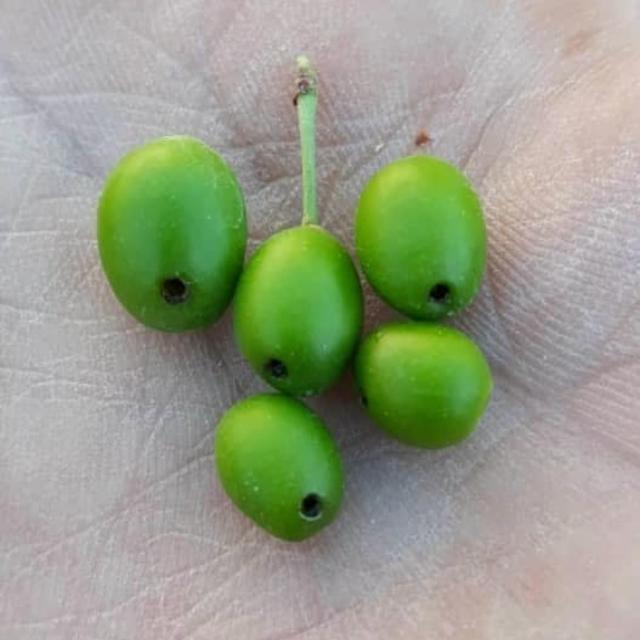Olive Fruit Fly: (97, 136, 247, 331), (233, 224, 364, 398), (354, 155, 486, 321), (214, 393, 344, 542)
